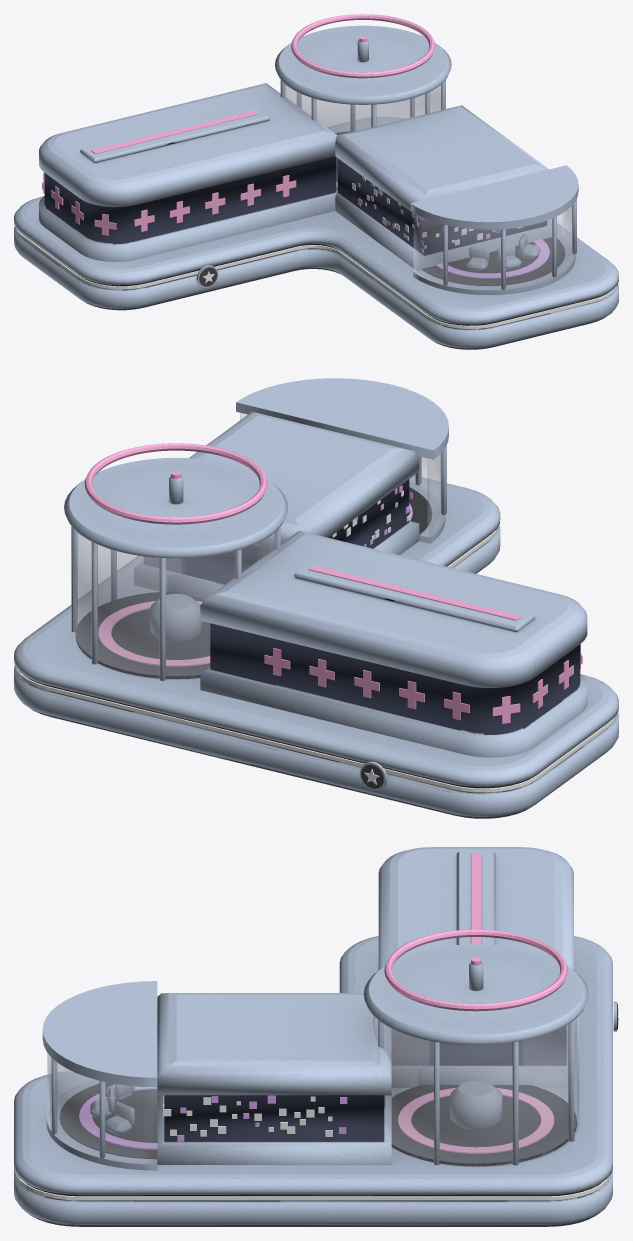
The model's file is SM_Evo_WelfareCenter.fbx.
3 views of the same model, one above another, from view 1: azimuth 30°, elevation 25°; view 2: azimuth 150°, elevation 25°; view 3: azimuth 270°, elevation 25° (orthographic). The views are drawn at different scales.
Visible parts, largest first — view 1: SMN_Evo_WelfareCenter, Emblem_Fx_WelfareCenter; view 2: SMN_Evo_WelfareCenter, Emblem_Fx_WelfareCenter; view 3: SMN_Evo_WelfareCenter, Emblem_Fx_WelfareCenter.
Boxes of the visible parts, box(x1,y1,x2,y2) form: SMN_Evo_WelfareCenter: box(14, 25, 618, 349); Emblem_Fx_WelfareCenter: box(15, 14, 617, 328); SMN_Evo_WelfareCenter: box(14, 378, 618, 818); Emblem_Fx_WelfareCenter: box(15, 413, 617, 792); SMN_Evo_WelfareCenter: box(14, 847, 617, 1226); Emblem_Fx_WelfareCenter: box(15, 853, 618, 1200).
Bounding box in the file's own units: 1.84 × 0.737 × 1.86.
